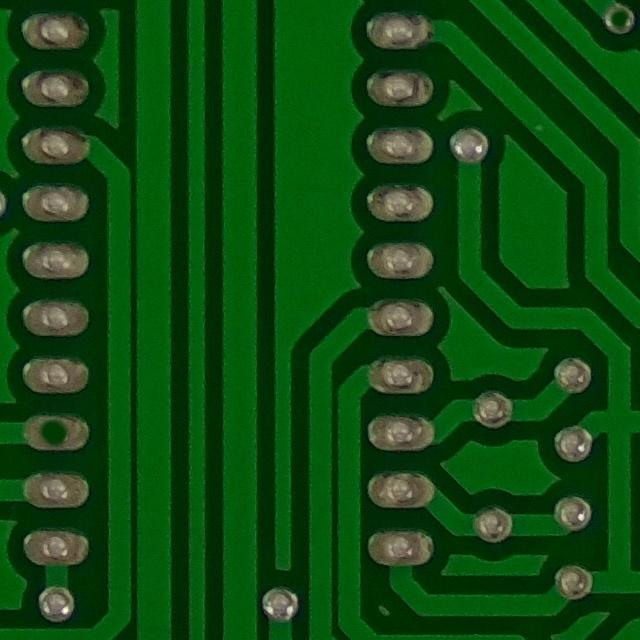missing_hole: (23, 399, 83, 463), (590, 0, 640, 44)
